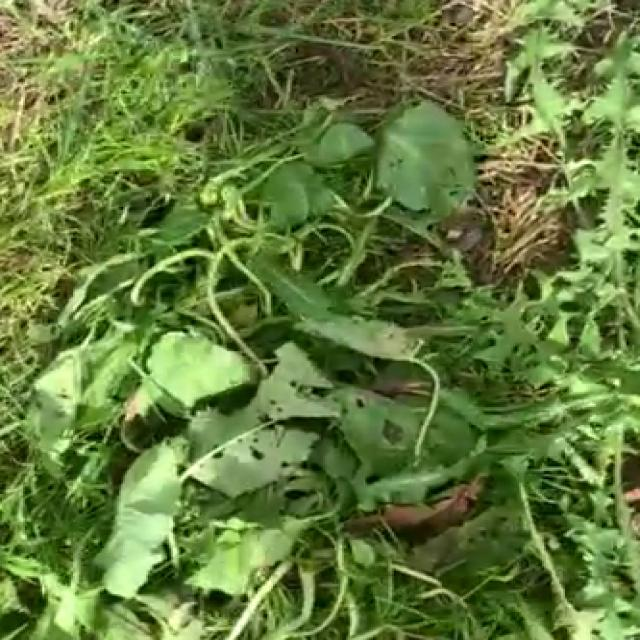organic waste: (17, 276, 494, 564), (133, 107, 511, 351)
